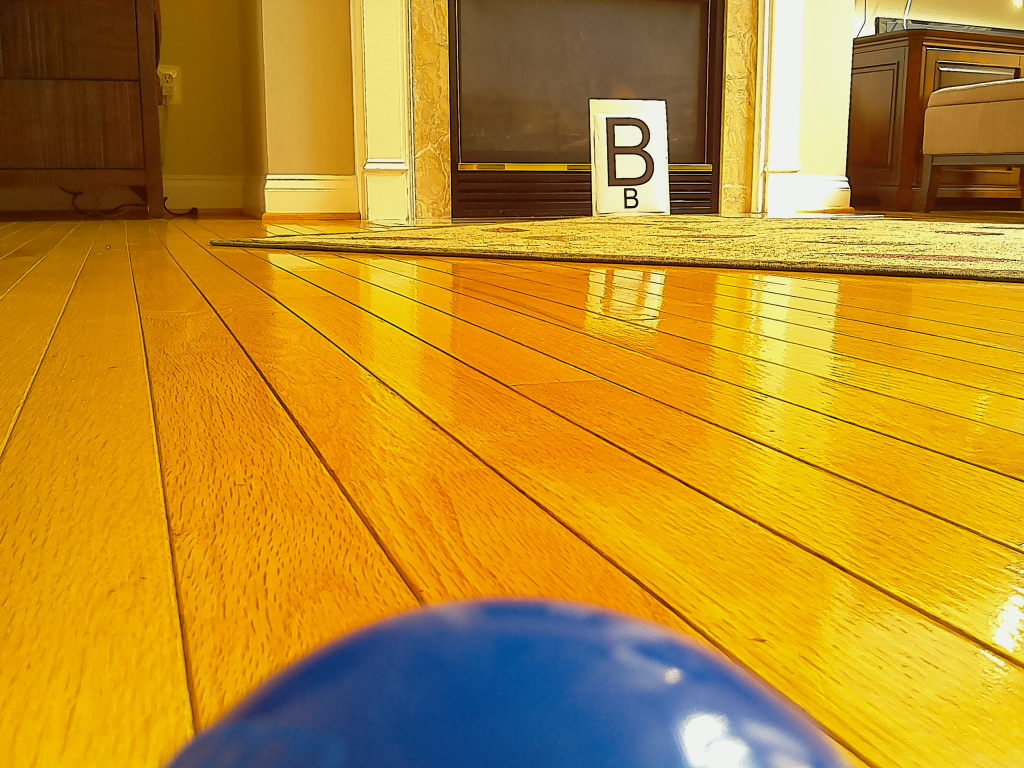letter: (605, 118, 653, 187)
